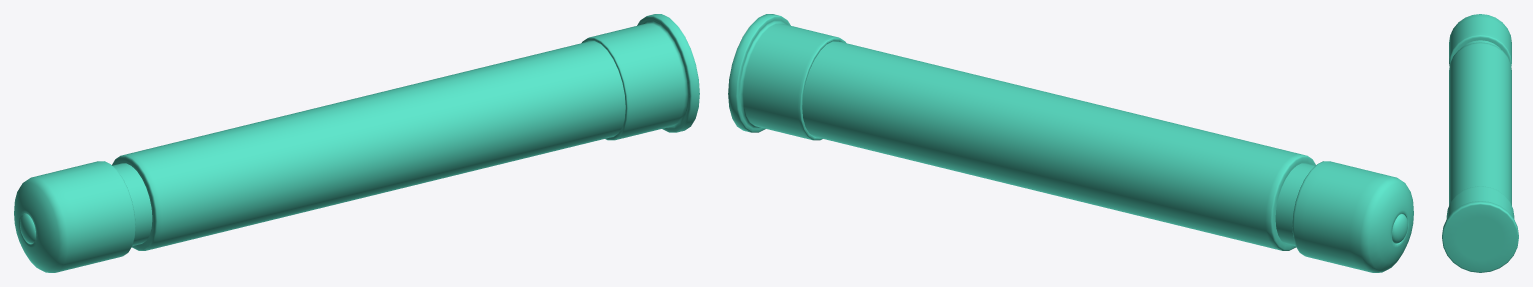
Rendered from AutoinjectorAtropine.FBX.
3 views of the same model, side by side, from view 1: azimuth 30°, elevation 25°; view 2: azimuth 150°, elevation 25°; view 3: azimuth 270°, elevation 25° (orthographic). The views are drawn at different scales.
Visible parts, largest first — view 1: AutoinjectorAtropine; view 2: AutoinjectorAtropine; view 3: AutoinjectorAtropine.
Part boxes in pixels (x1,y1,x2,y2): AutoinjectorAtropine: [14, 14, 699, 272]; AutoinjectorAtropine: [728, 14, 1413, 272]; AutoinjectorAtropine: [1442, 14, 1518, 272].
Size of the model in its own units: 13.14 by 2.12 by 2.12.
